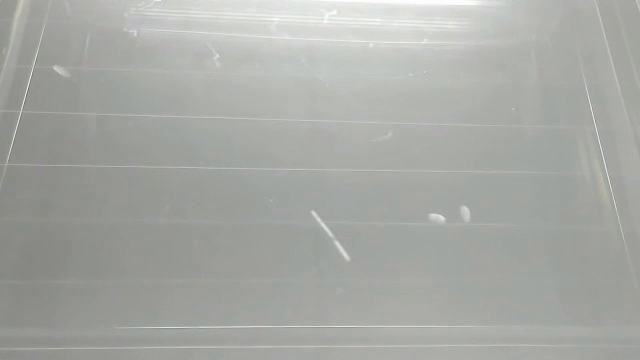alpha: (306, 208, 356, 265), (425, 207, 449, 229), (46, 61, 71, 81), (458, 202, 474, 225)
